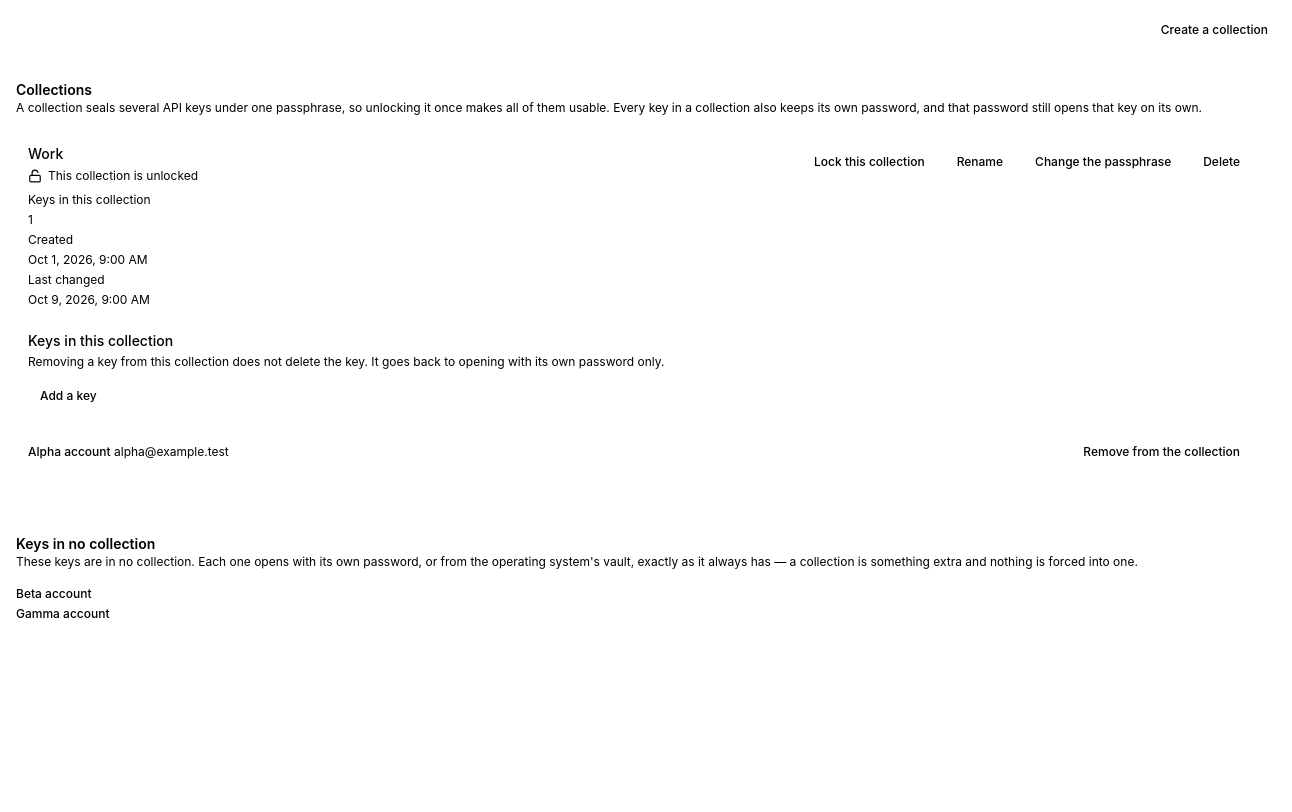
removing a key returns it to the keys in no collection, and says the key is untouched
Click the button with test id "collection-col-work-remove-key-alpha" at (1162, 452), box x1=1071 y1=434 x2=1252 y2=470
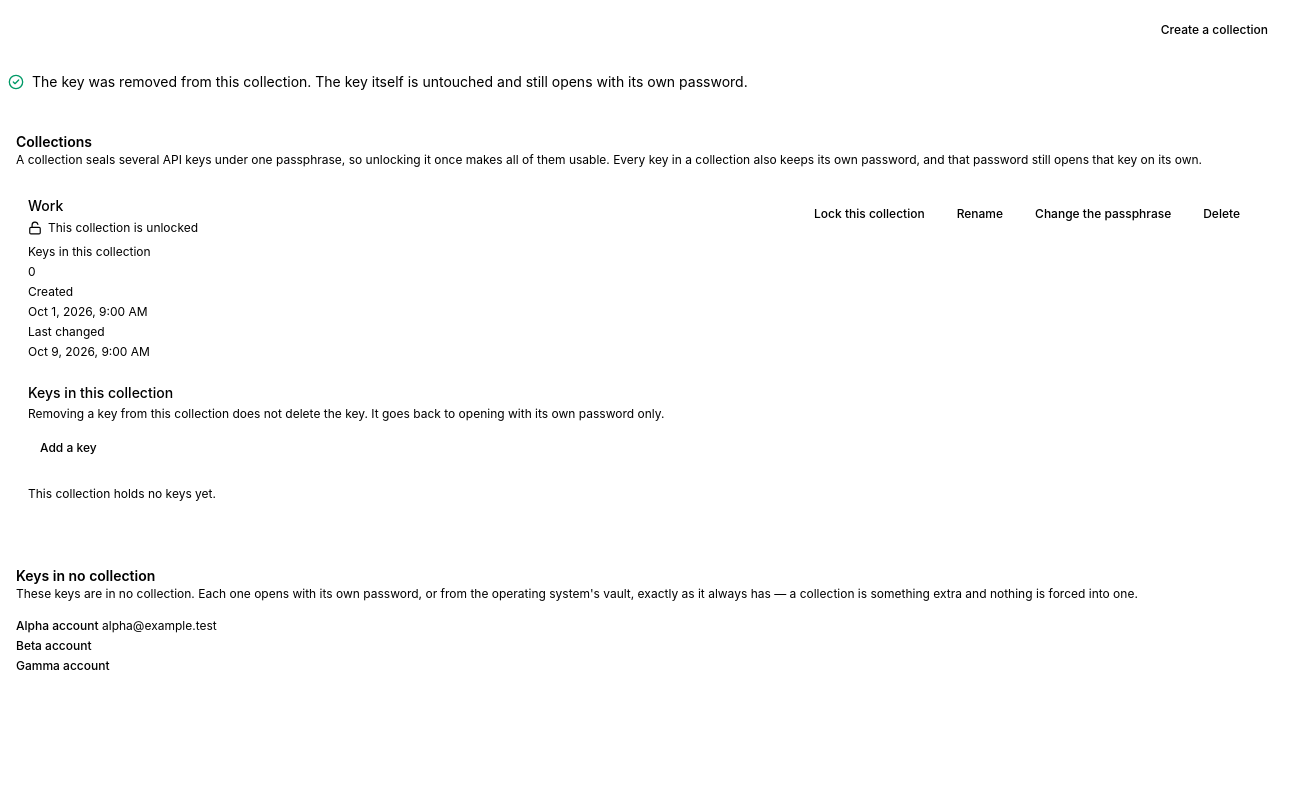
Check: the list with test id "collections-unassigned" shows "Alpha account", box x1=16 y1=618 x2=99 y2=633
